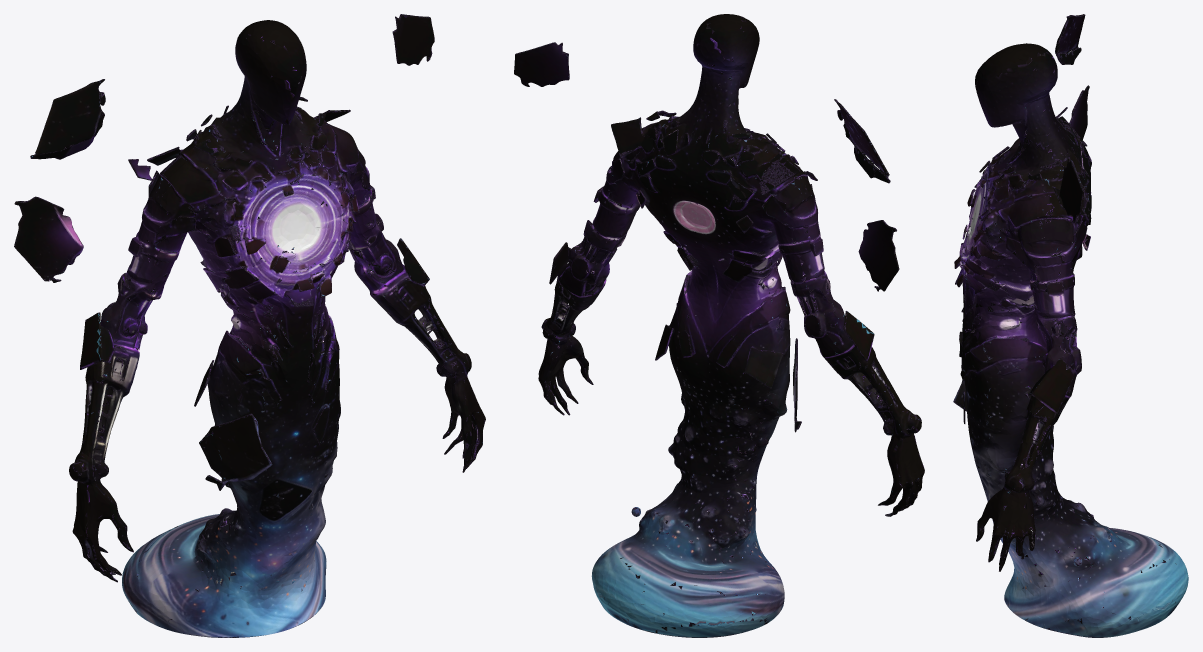
The model's file is void-entity-web.glb.
3 views of the same model, side by side, from view 1: azimuth 30°, elevation 25°; view 2: azimuth 150°, elevation 25°; view 3: azimuth 270°, elevation 25° (orthographic). The views are drawn at different scales.
Parts seen in each view (by area): view 1: world; view 2: world; view 3: world.
Part boxes in pixels (bbox=[...]): world: bbox=[14, 14, 485, 637]; world: bbox=[514, 14, 924, 637]; world: bbox=[953, 14, 1188, 637].
Bounding box in the file's own units: 1.48 × 2 × 0.7702.
1 material, 1 textured.
